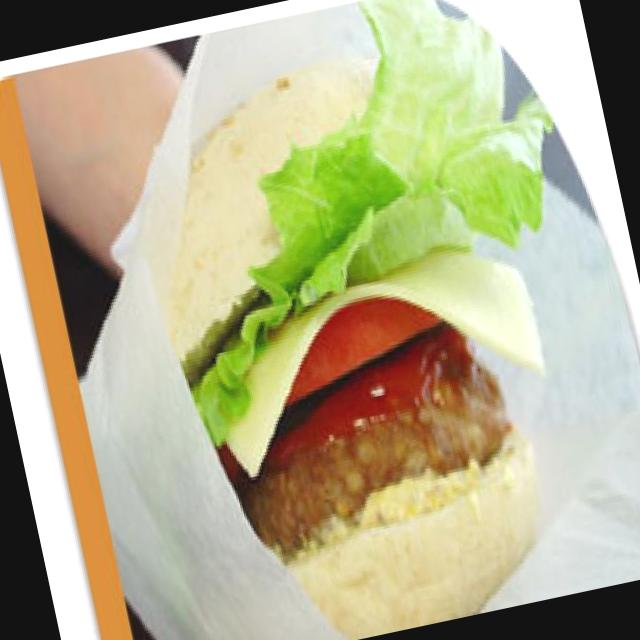Hamburger: (126, 0, 627, 640)
